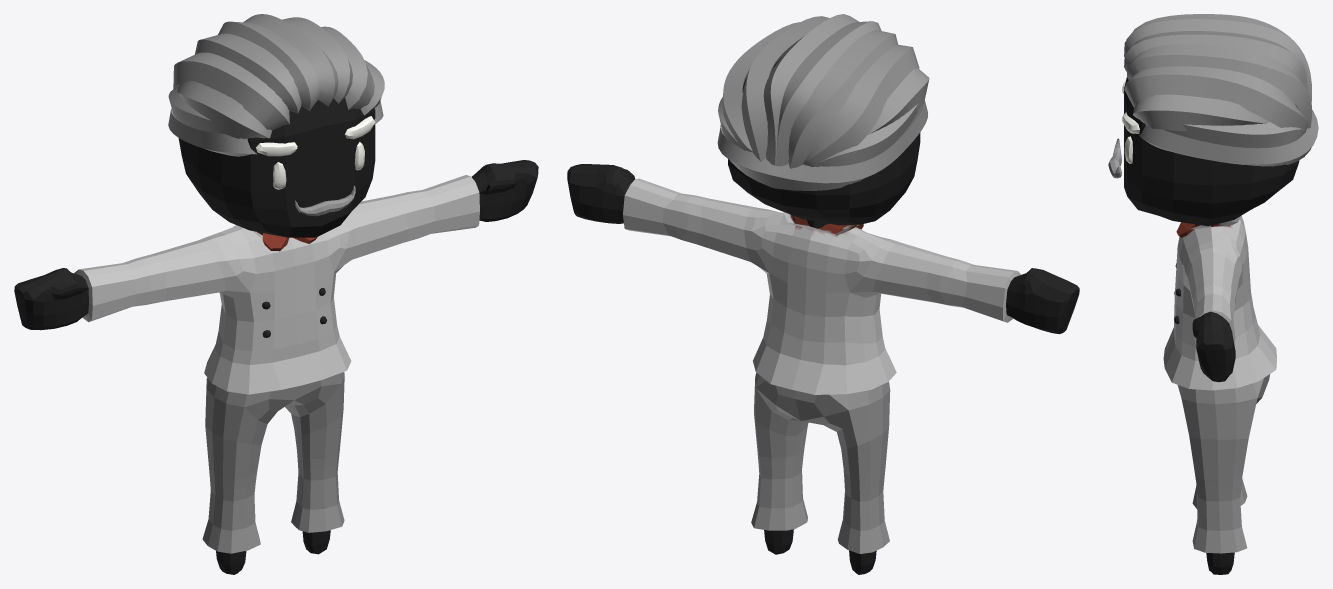
File: Chef_Male.fbx
3 views of the same model, side by side, from view 1: azimuth 30°, elevation 25°; view 2: azimuth 150°, elevation 25°; view 3: azimuth 270°, elevation 25° (orthographic). The views are drawn at different scales.
Parts seen in each view (by area): view 1: Body; view 2: Body; view 3: Body.
Boxes of the visible parts, <box> form: Body: <box>14,14,538,574</box>; Body: <box>567,14,1079,574</box>; Body: <box>1108,14,1318,574</box>.
Size of the model in its own units: 324 by 320 by 116.
1 material, 1 textured.
